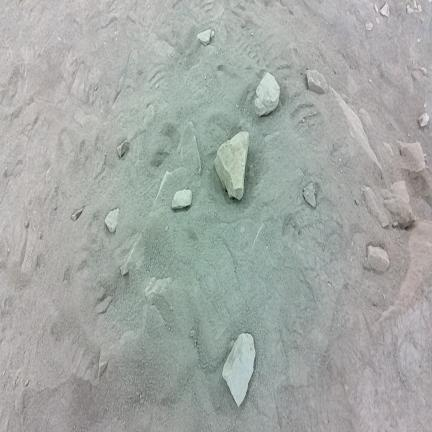Rock: (330, 87, 382, 173), (223, 334, 255, 406), (215, 132, 248, 199), (177, 122, 201, 174), (362, 186, 389, 227), (255, 73, 280, 116), (398, 142, 425, 178), (384, 196, 415, 227), (366, 246, 389, 272), (145, 277, 171, 300), (121, 242, 137, 275), (307, 70, 328, 94), (359, 108, 373, 138), (171, 189, 192, 209), (391, 181, 409, 202), (105, 208, 119, 233), (287, 43, 300, 67), (304, 183, 316, 207), (96, 296, 112, 313), (359, 108, 372, 128), (197, 29, 211, 46), (117, 141, 129, 157), (71, 207, 84, 221), (98, 359, 108, 377), (419, 113, 429, 127), (380, 2, 389, 17), (383, 142, 393, 155), (411, 71, 422, 81), (406, 4, 413, 14), (366, 21, 373, 31), (419, 67, 426, 75), (412, 0, 417, 9), (374, 4, 378, 12), (417, 4, 421, 12), (211, 31, 214, 38), (376, 17, 379, 23), (368, 78, 372, 82), (417, 38, 420, 43), (424, 103, 426, 107), (348, 117, 349, 118)
